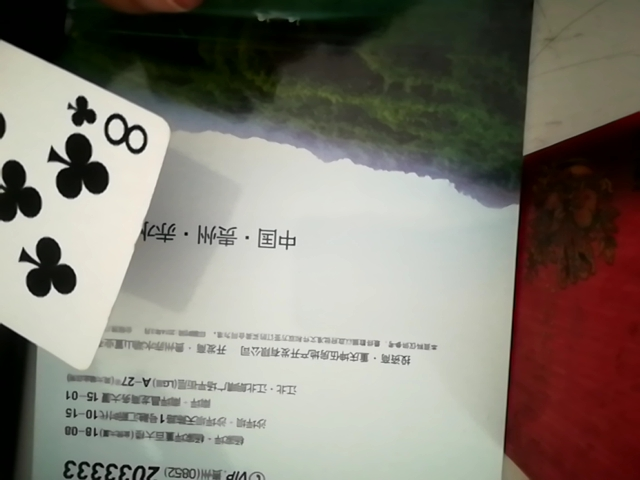mh 8: (0, 8, 171, 373)
